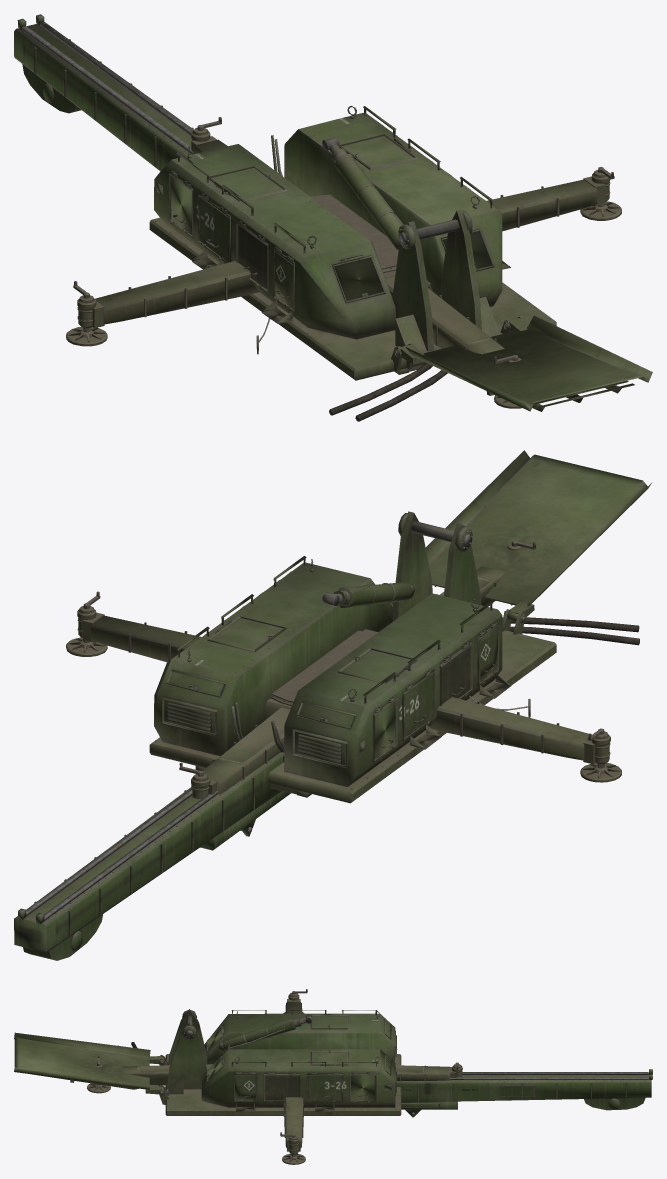
3 renders of one model, top to bottom at view 1: azimuth 30°, elevation 25°; view 2: azimuth 150°, elevation 25°; view 3: azimuth 270°, elevation 25°, orthographic. The views are drawn at different scales.
Parts seen in each view (by area): view 1: turret|S7_T, body|S7_H, turret|S7_K, cradle|S7_G, body|S7_R, cyl0|S7_K; view 2: turret|S7_T, turret|S7_K, cradle|S7_G, body|S7_H, body|S7_R, cyl0|S7_K; view 3: turret|S7_T, cradle|S7_G, turret|S7_K, body|S7_H, body|S7_R, cyl0|S7_K.
Part boxes in pixels (x1,y1,x2,y2): turret|S7_T: (149, 105, 556, 380); body|S7_H: (95, 139, 597, 421); turret|S7_K: (394, 315, 652, 411); cradle|S7_G: (14, 14, 193, 171); body|S7_R: (66, 117, 621, 408); cyl0|S7_K: (334, 154, 403, 249); turret|S7_T: (149, 511, 556, 803); turret|S7_K: (425, 450, 652, 623); cradle|S7_G: (14, 752, 290, 960); body|S7_H: (90, 566, 639, 794); body|S7_R: (66, 540, 621, 799); cyl0|S7_K: (338, 582, 414, 607); turret|S7_T: (158, 1009, 401, 1115); cradle|S7_G: (397, 1069, 652, 1117); turret|S7_K: (14, 1032, 164, 1094); body|S7_H: (118, 1002, 450, 1147); body|S7_R: (87, 989, 462, 1164); cyl0|S7_K: (218, 1018, 295, 1050).
Size of the model in its own units: 6.08 by 1.83 by 10.71.
Materials: 8 (8 with a texture image).
